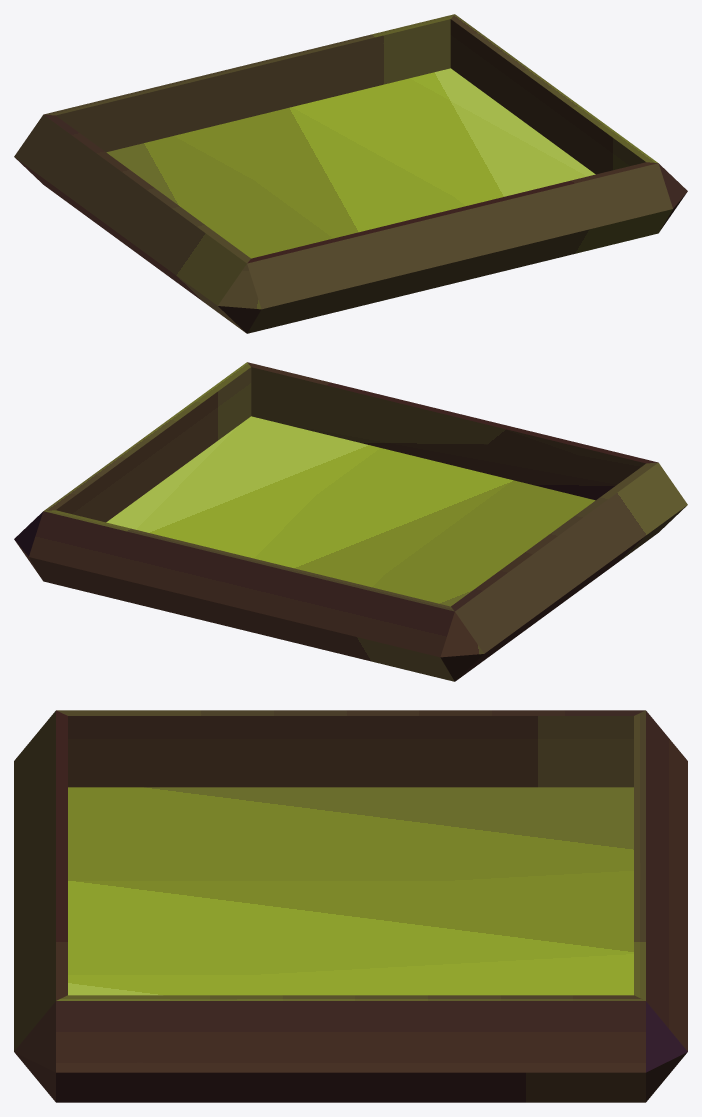
Rendered from tray.gltf.
3 views of the same model, one above another, from view 1: azimuth 30°, elevation 25°; view 2: azimuth 150°, elevation 25°; view 3: azimuth 270°, elevation 25° (orthographic). The views are drawn at different scales.
Visible parts, largest first — view 1: beveled_cuboid; view 2: beveled_cuboid; view 3: beveled_cuboid.
Boxes of the visible parts, x1,y1,x2,y2 form: beveled_cuboid: (14,14,687,333); beveled_cuboid: (14,362,687,681); beveled_cuboid: (14,710,687,1102).
Size of the model in its own units: 0.875 by 0.125 by 0.75.
Materials: 1 (1 with a texture image).
